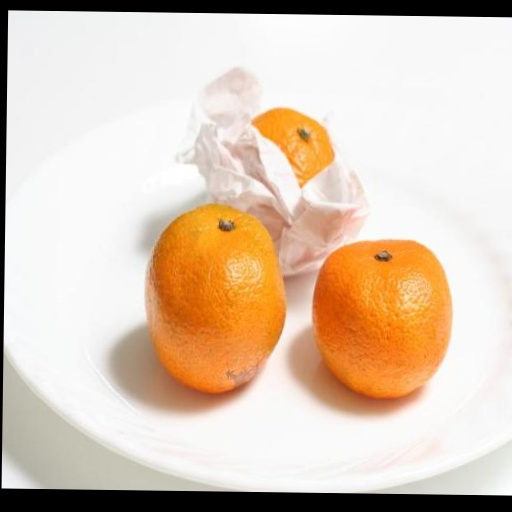fruit: (145, 205, 286, 392), (314, 240, 451, 398), (253, 108, 334, 186)
